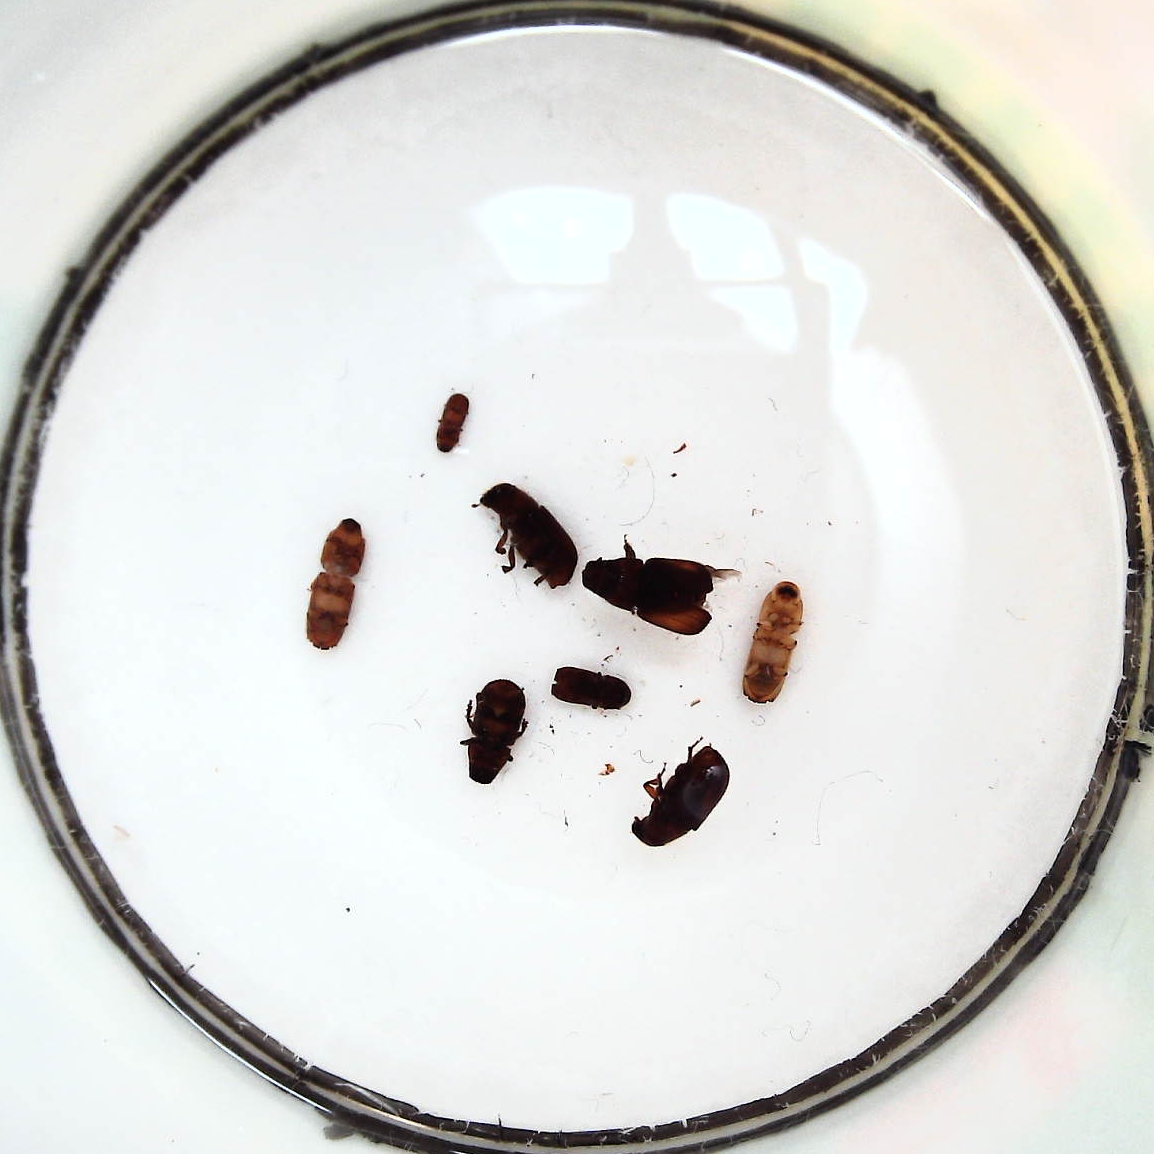Boerner: (300, 513, 371, 656), (740, 580, 809, 706)
Leconte: (576, 541, 723, 638), (481, 479, 581, 593), (631, 736, 730, 849), (458, 680, 535, 787)
Linnaeus: (546, 666, 631, 716)
acuminatus: (431, 390, 469, 461)
